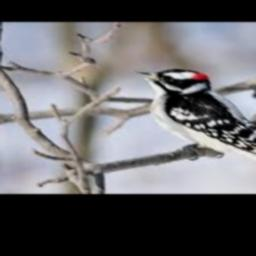Woodpecker: (132, 69, 256, 186)
